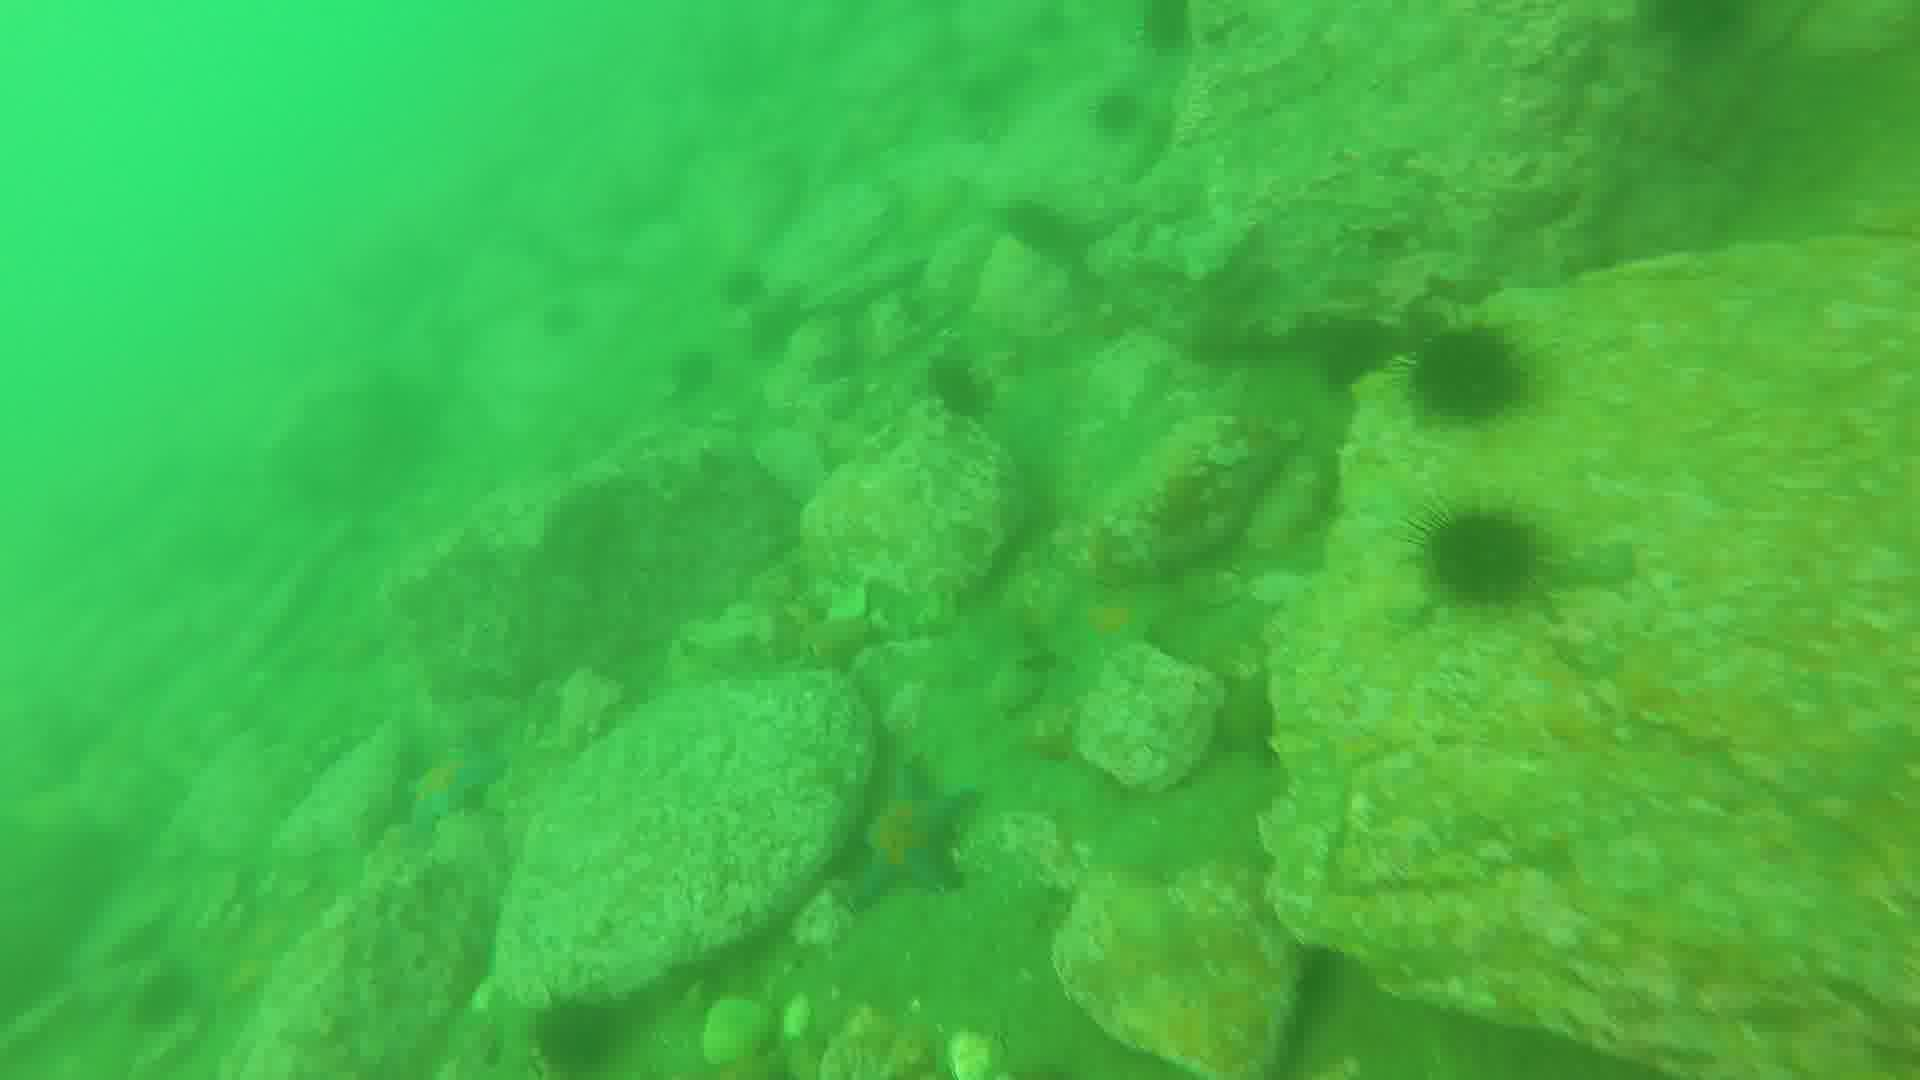echinus: (1425, 501, 1545, 613), (1414, 318, 1519, 422), (919, 345, 998, 426), (758, 302, 820, 365), (1087, 88, 1145, 140), (531, 297, 589, 340), (723, 272, 769, 310)
starfish: (855, 749, 978, 907), (406, 725, 501, 855), (1073, 582, 1176, 692)
